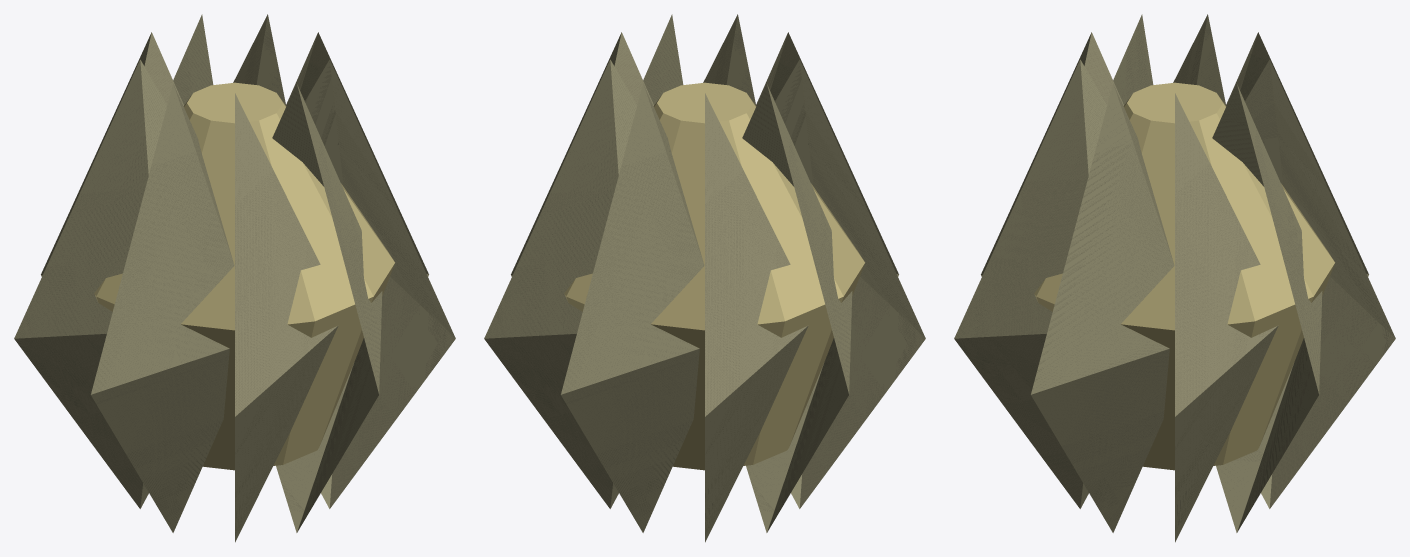
Rendered from strange_lanternheart.glb.
3 renders of one model, left to right at view 1: azimuth 30°, elevation 25°; view 2: azimuth 150°, elevation 25°; view 3: azimuth 270°, elevation 25°, orthographic.
Visible parts, largest first — view 1: strange_lanternheart; view 2: strange_lanternheart; view 3: strange_lanternheart.
Boxes of the visible parts, x1,y1,x2,y2 form: strange_lanternheart: (14,14,455,542); strange_lanternheart: (484,14,925,542); strange_lanternheart: (954,14,1395,542).
Bounding box in the file's own units: 0.5431 × 0.62 × 0.5515.
